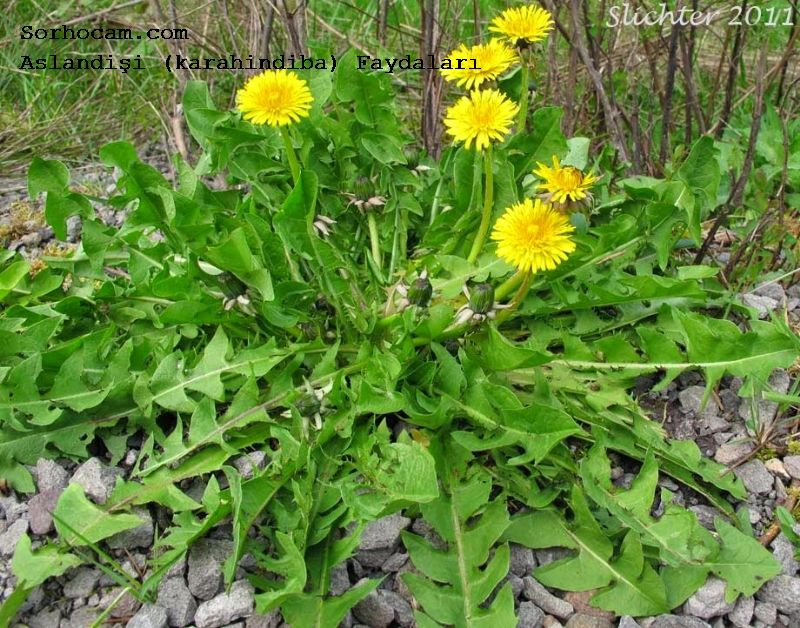begonvil: (496, 194, 576, 291), (439, 85, 533, 163), (227, 67, 319, 138), (522, 154, 609, 216), (439, 35, 519, 90), (481, 0, 557, 51)
